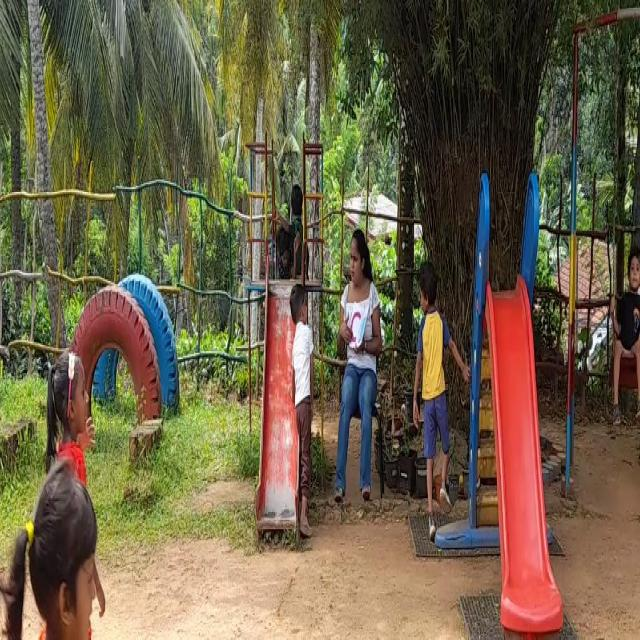adult: (329, 214, 384, 490)
child: (2, 466, 95, 640), (409, 262, 457, 524), (286, 286, 320, 519), (607, 234, 640, 429)
